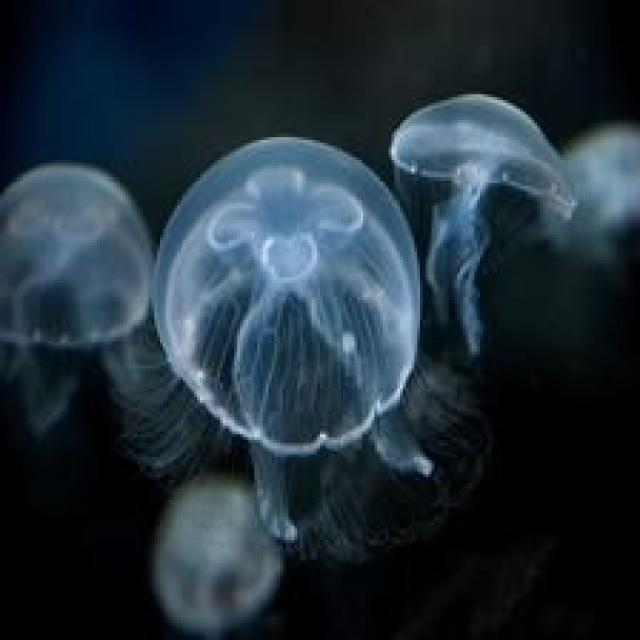Box-jellyfish: (0, 89, 637, 637)
